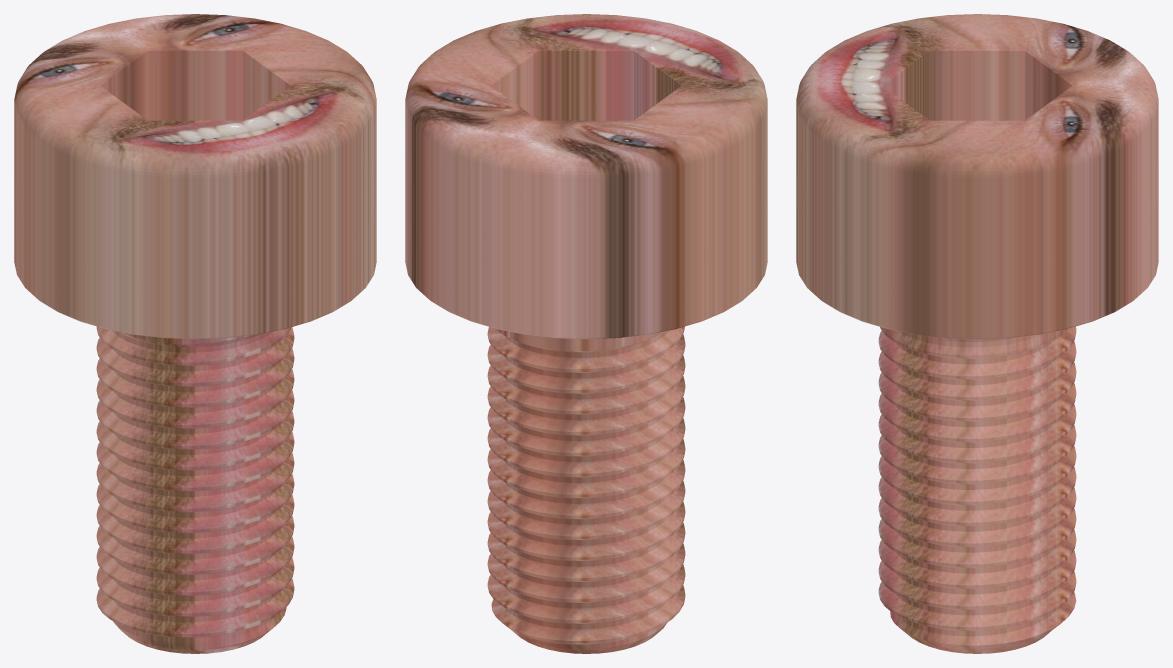
Rendered from kroeger-cap-allen-bolt.glb.
3 views of the same model, side by side, from view 1: azimuth 30°, elevation 25°; view 2: azimuth 150°, elevation 25°; view 3: azimuth 270°, elevation 25° (orthographic).
Visible parts, largest first — view 1: Bolt.014; view 2: Bolt.014; view 3: Bolt.014.
Boxes of the visible parts, box(x1,y1,x2,y2) form: Bolt.014: box(14, 14, 376, 653); Bolt.014: box(405, 14, 767, 653); Bolt.014: box(796, 14, 1158, 653).
Size of the model in its own units: 0.011 by 0.018 by 0.011.
1 material, 1 textured.
